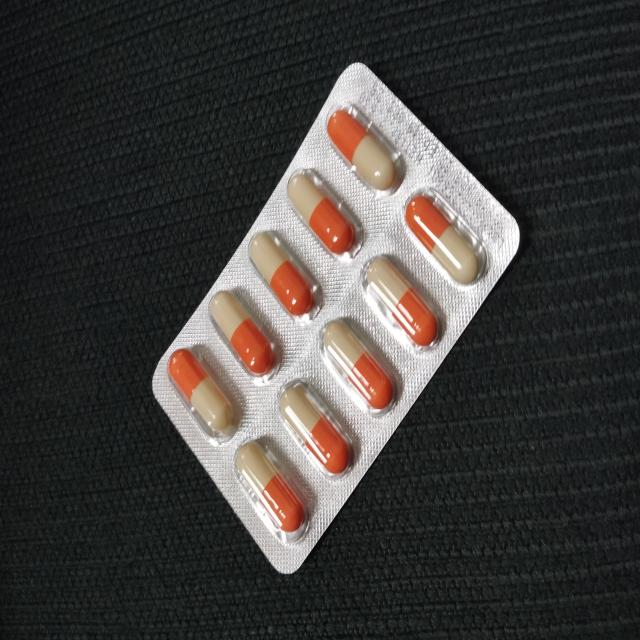B3: (151, 63, 522, 572)
